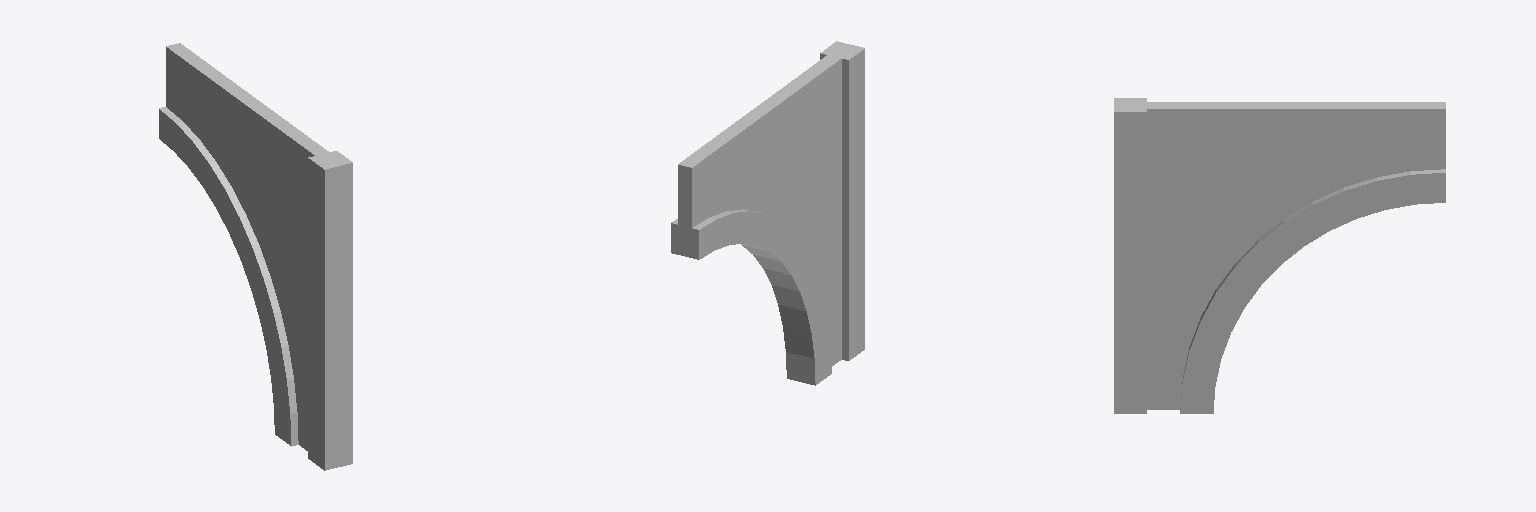
The model's file is wall-wood-arch-top.obj.
The picture shows the model from 3 angles: view 1: azimuth 30°, elevation 25°; view 2: azimuth 150°, elevation 25°; view 3: azimuth 270°, elevation 25°; orthographic projection.
Visible parts, largest first — view 1: wall-wood-arch-top; view 2: wall-wood-arch-top; view 3: wall-wood-arch-top.
Boxes of the visible parts, <box> form: wall-wood-arch-top: <box>159,43,352,470</box>; wall-wood-arch-top: <box>671,41,864,385</box>; wall-wood-arch-top: <box>1114,98,1445,413</box>.
Size of the model in its own units: 0.1 by 1 by 1.